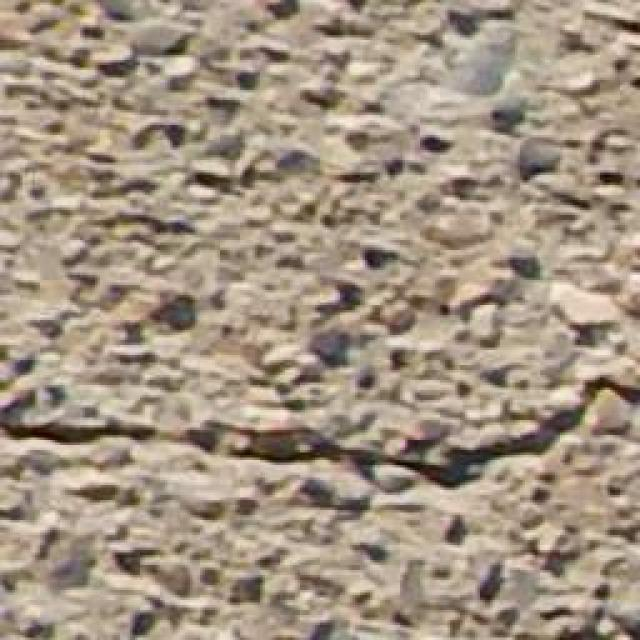concrete-crack: (1, 366, 640, 505)
